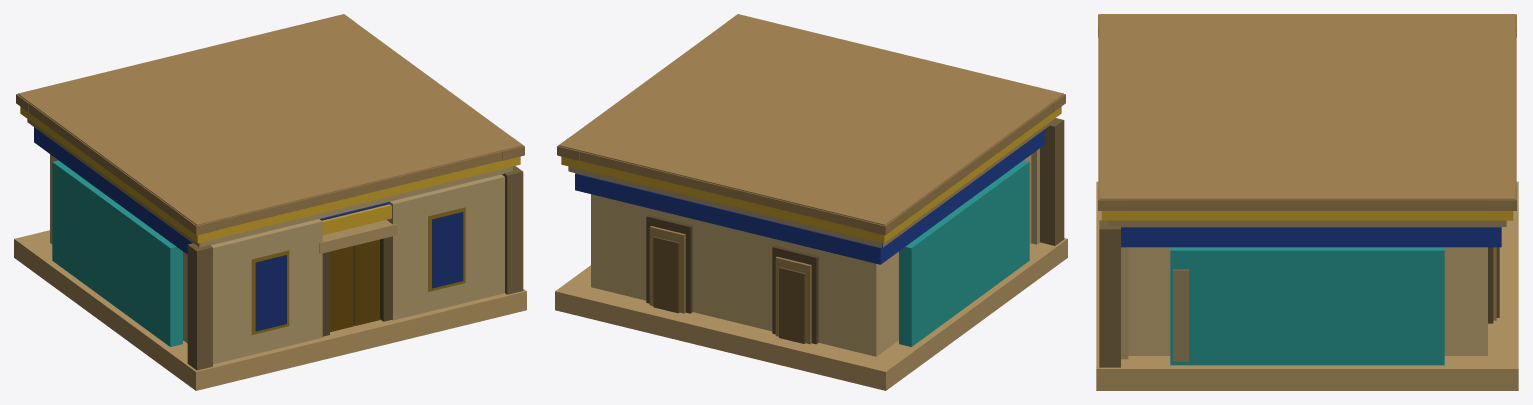
The model's file is TutMaskSil.fbx.
3 views of the same model, side by side, from view 1: azimuth 30°, elevation 25°; view 2: azimuth 150°, elevation 25°; view 3: azimuth 270°, elevation 25° (orthographic). The views are drawn at different scales.
Visible parts, largest first — view 1: TU_S_All; view 2: TU_S_All; view 3: TU_S_All.
Boxes of the visible parts, x1,y1,x2,y2 form: TU_S_All: (14, 14, 526, 390); TU_S_All: (555, 14, 1067, 390); TU_S_All: (1096, 14, 1518, 390).
Size of the model in its own units: 42.04 by 20 by 40.04.
